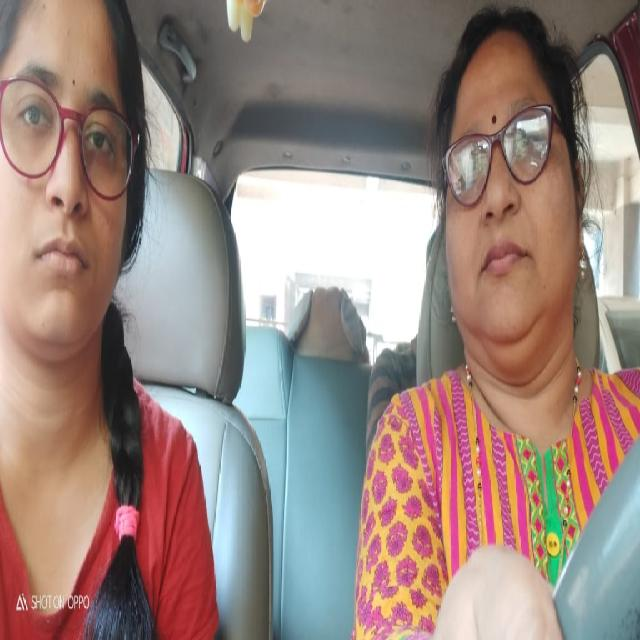person: (431, 0, 595, 378), (0, 0, 151, 373)
